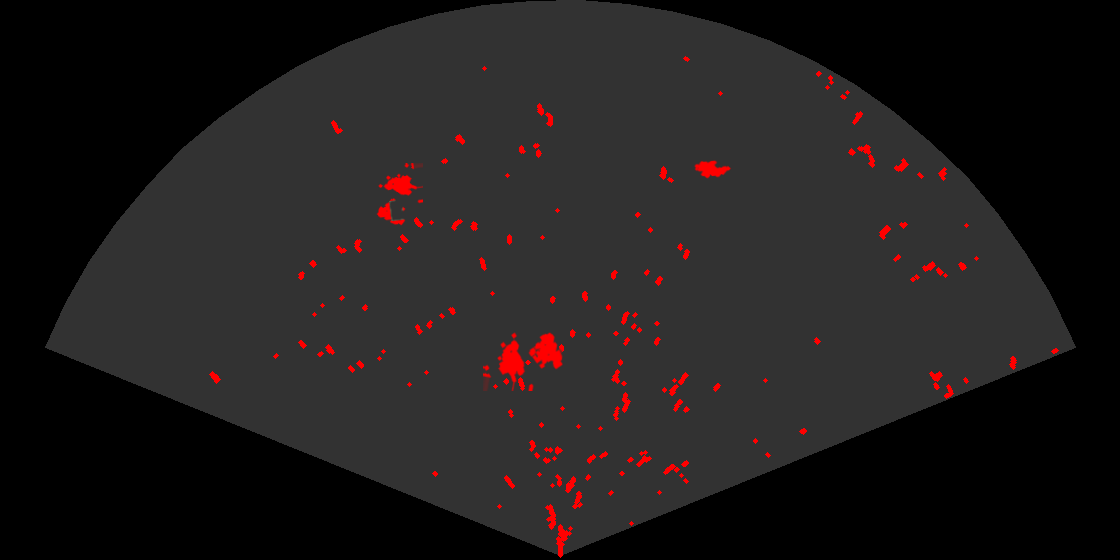AUV: (693, 159, 733, 180)
cage: (483, 331, 564, 391), (375, 163, 423, 227)
